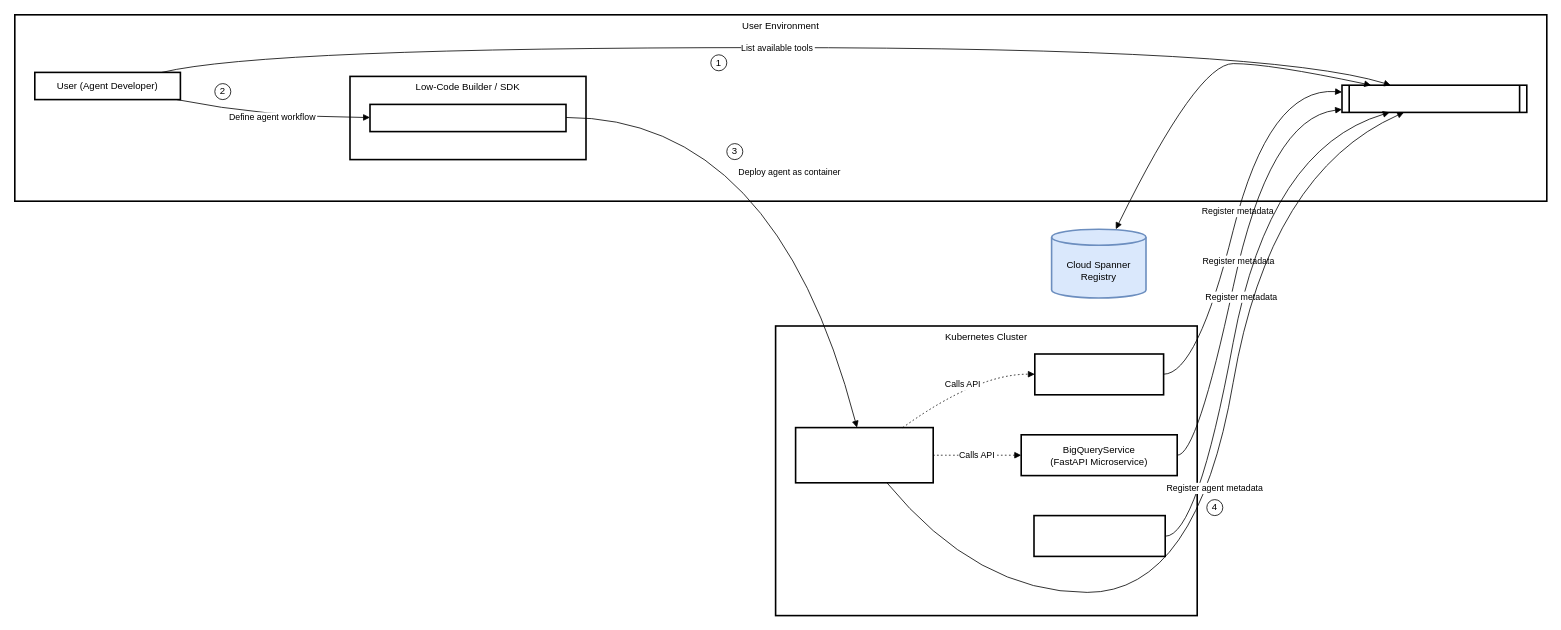
Some shapes in this 1561 by 630 pixel diagram are drawn without their labels. Here are the shapes that lost their labels. From the top down, the centre of each, then its label:
At (467,117): "CrewAI / LangGraph Framework".
At (1434,98): "Registry Service (/tools API)".
At (1099,374): "WebService (FastAPI Microservice)".
At (864,454): "HRRecruitingAssistant Agent (FastAPI Microservice)".
At (1099,535): "AuthService (FastAPI Microservice)".
